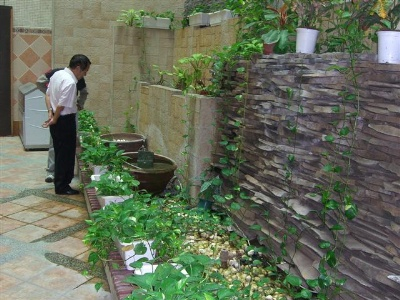bowl: (121, 152, 177, 194), (99, 132, 146, 152)
